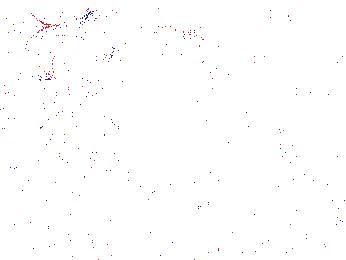moon jellyfish: (106, 26, 212, 90), (51, 32, 113, 99), (261, 28, 346, 75), (23, 24, 87, 81)
